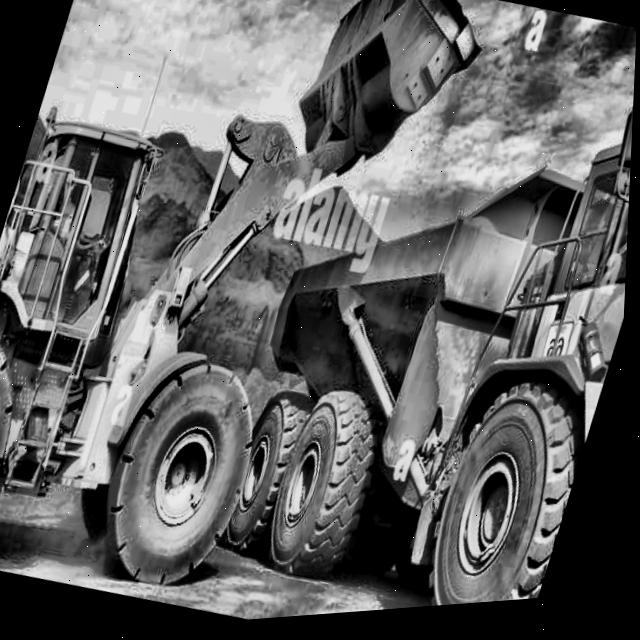buldozerpayloadergrader: (0, 0, 490, 640)
dump_truck: (147, 70, 636, 630)
